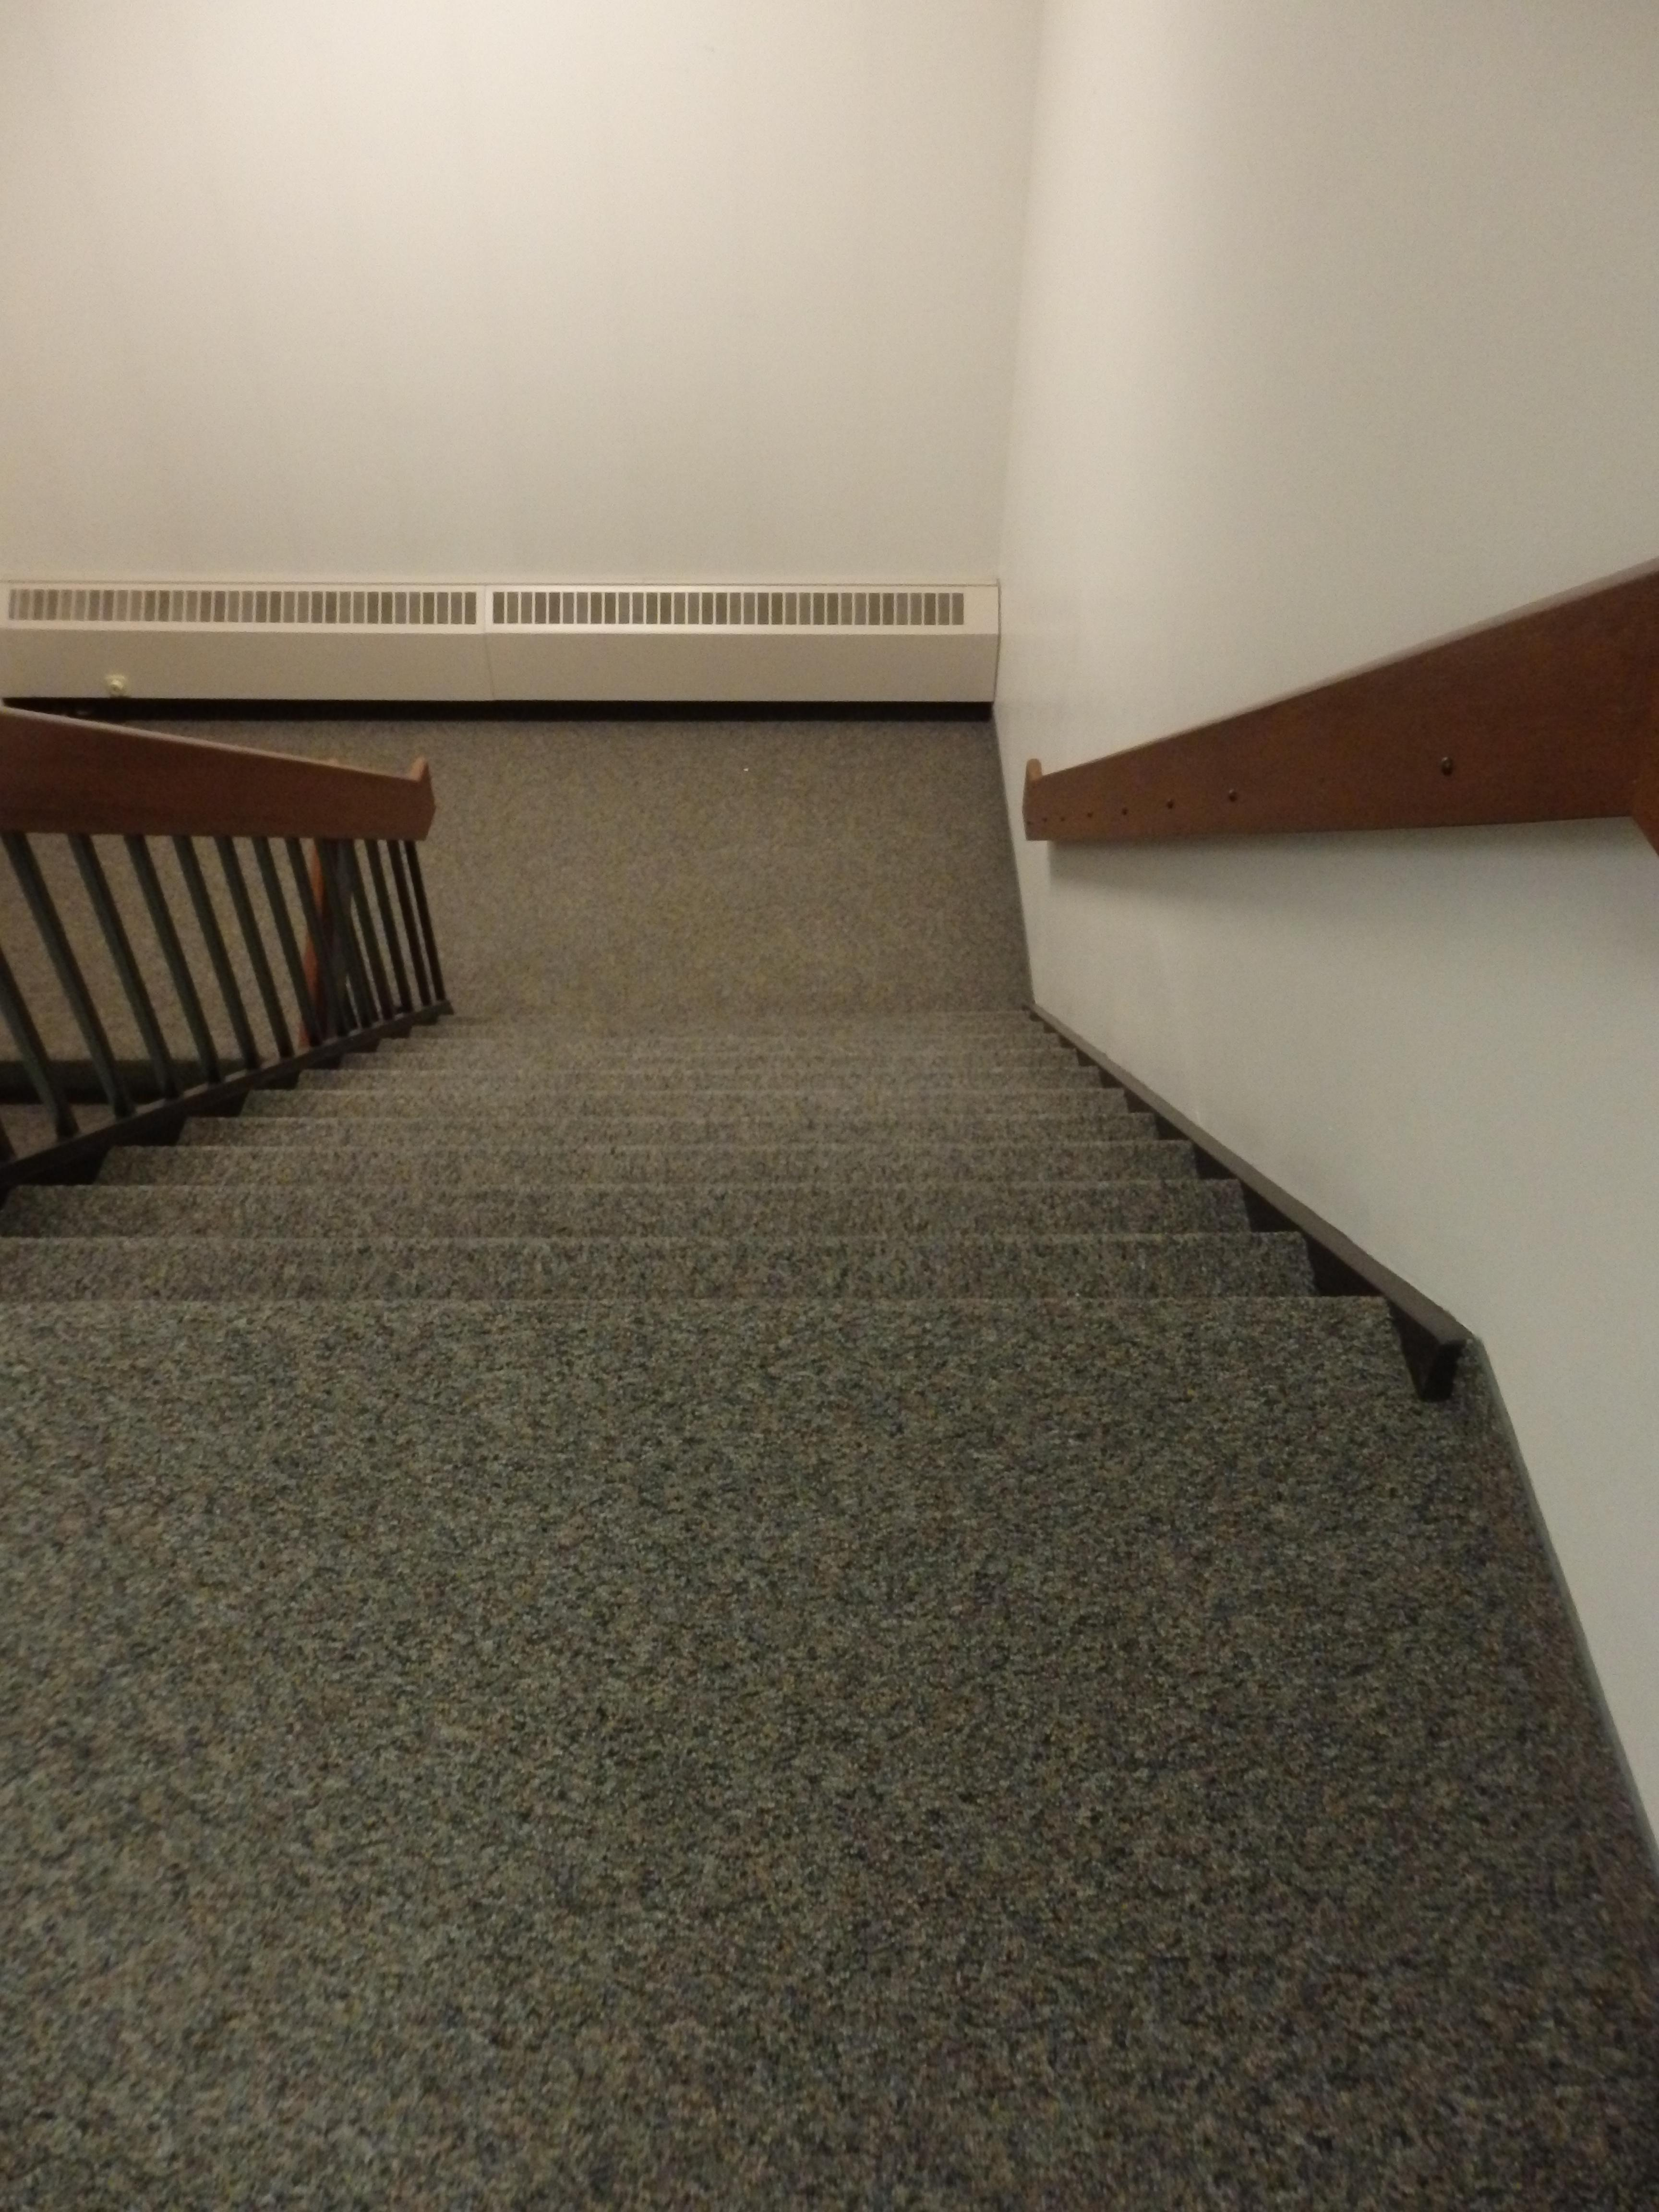stairs_down: (71, 981, 1305, 1345)
